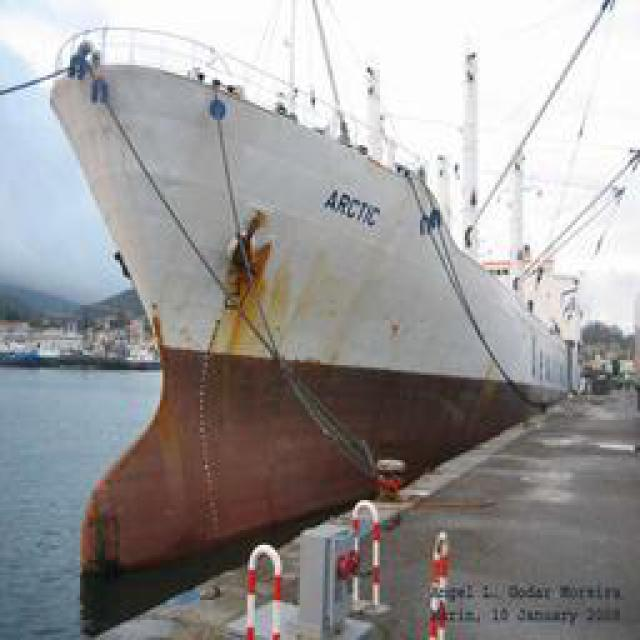Ship: (36, 21, 581, 611)
